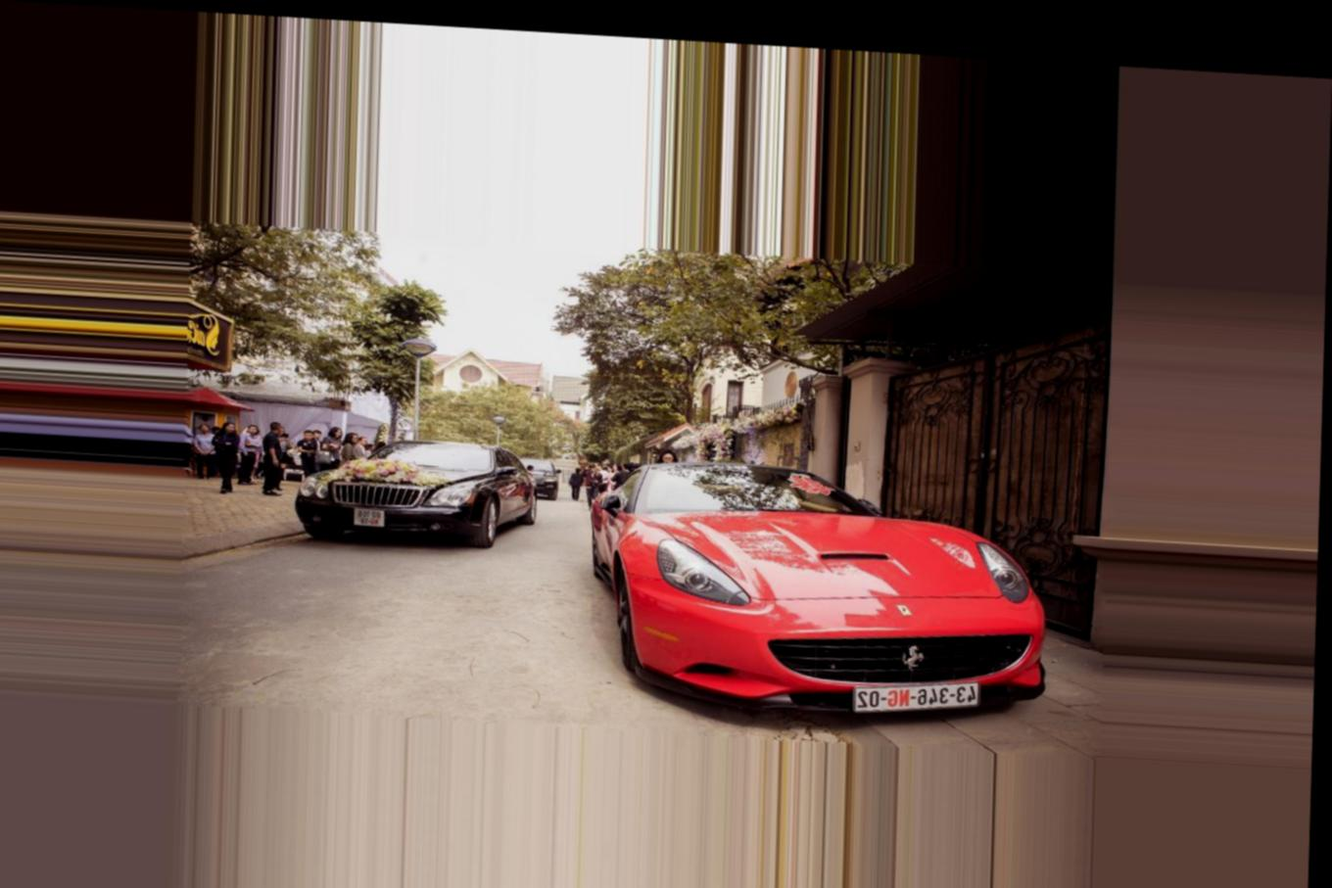License_Plate: (849, 668, 980, 724), (347, 505, 390, 531)
